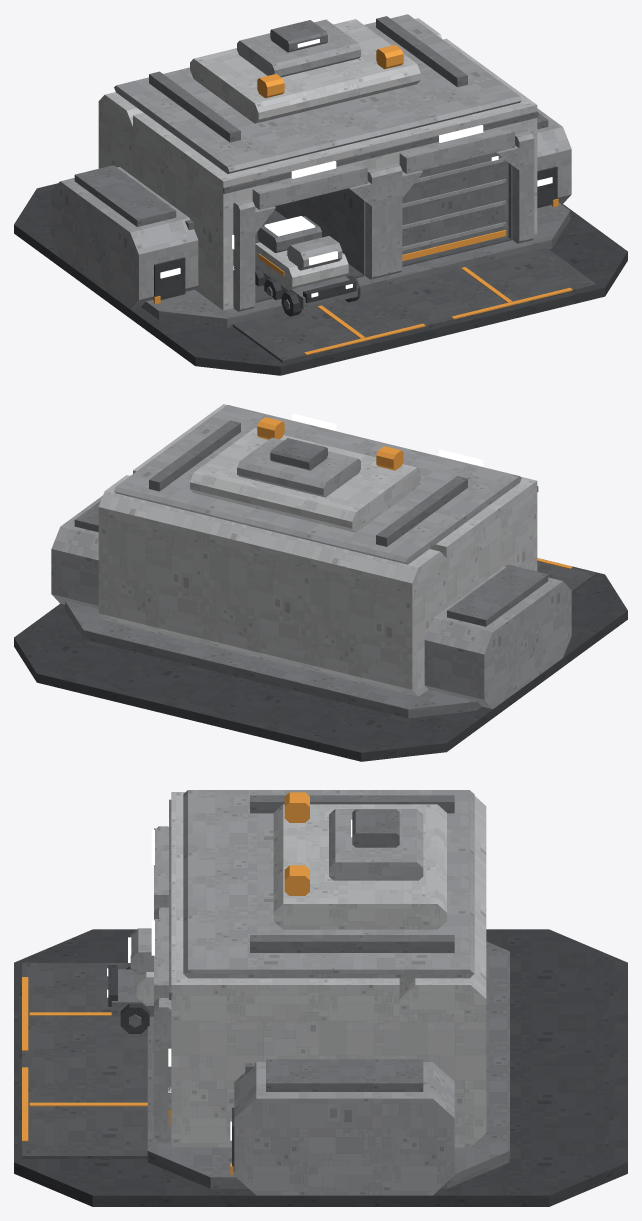
The model's file is resourceBay_lod0.glb.
The picture shows the model from 3 angles, top to bottom: view 1: azimuth 30°, elevation 25°; view 2: azimuth 150°, elevation 25°; view 3: azimuth 270°, elevation 25°; orthographic projection. The views are drawn at different scales.
Visible parts, largest first — view 1: resourceBay_base_body, resourceBay_door_body, resourceBay_harvester_body, resourceBay_base_trim, resourceBay_base_glow, resourceBay_harvester_glow, resourceBay_door_trim; view 2: resourceBay_base_body, resourceBay_base_trim, resourceBay_base_glow; view 3: resourceBay_base_body, resourceBay_base_trim, resourceBay_harvester_body.
Part boxes in pixels (left/top/right/bottom): resourceBay_base_body: left=14, top=14, right=627, bottom=375; resourceBay_door_body: left=402, top=152, right=508, bottom=262; resourceBay_harvester_body: left=255, top=216, right=360, bottom=316; resourceBay_base_trim: left=154, top=44, right=572, bottom=354; resourceBay_base_glow: left=160, top=39, right=552, bottom=278; resourceBay_harvester_glow: left=264, top=216, right=352, bottom=297; resourceBay_door_trim: left=402, top=230, right=506, bottom=261; resourceBay_base_body: left=14, top=404, right=627, bottom=761; resourceBay_base_trim: left=257, top=417, right=572, bottom=568; resourceBay_base_glow: left=291, top=413, right=483, bottom=466; resourceBay_base_body: left=14, top=790, right=627, bottom=1206; resourceBay_base_trim: left=22, top=792, right=309, bottom=1174; resourceBay_harvester_body: left=108, top=928, right=153, bottom=1033.
Size of the model in its own units: 4 by 1.77 by 3.9.
3 materials, 1 textured.
